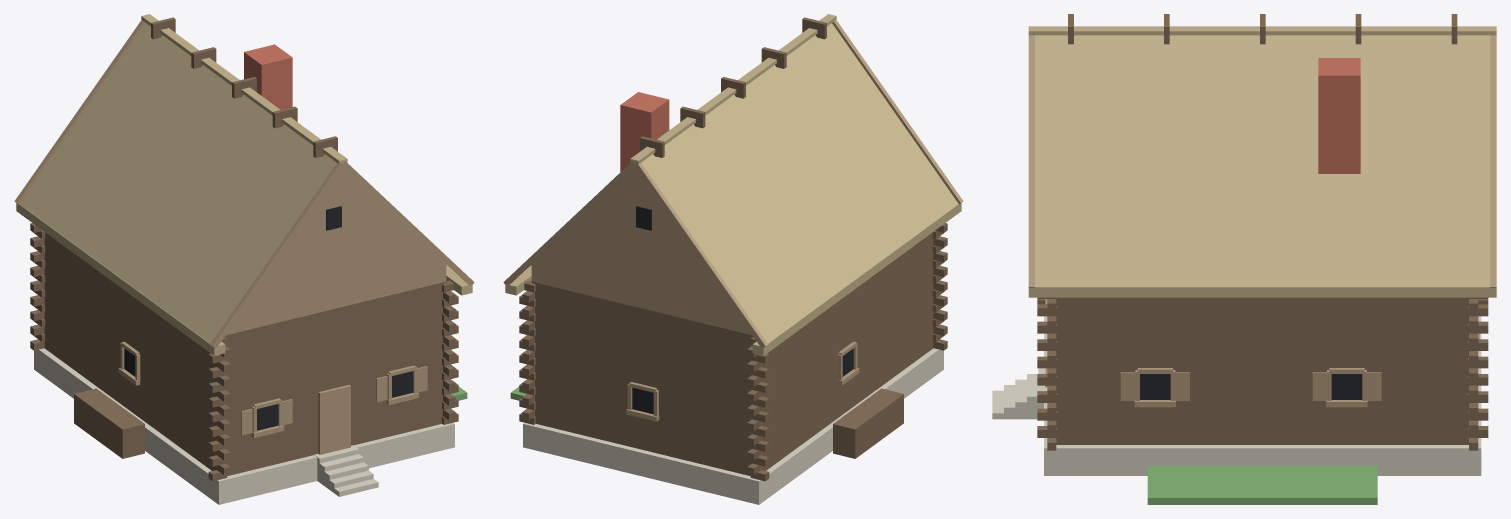
The model's file is house_timber_log.glb.
The picture shows the model from 3 angles, left to right: view 1: azimuth 30°, elevation 25°; view 2: azimuth 150°, elevation 25°; view 3: azimuth 270°, elevation 25°; orthographic projection. The views are drawn at different scales.
Visible parts, largest first — view 1: HouseLog; view 2: HouseLog; view 3: HouseLog.
Part boxes in pixels (x1,y1,x2,y2): HouseLog: (14,14,474,504); HouseLog: (503,14,963,504); HouseLog: (992,14,1496,504).
Bounding box in the file's own units: 11.4 × 11.15 × 13.15.
